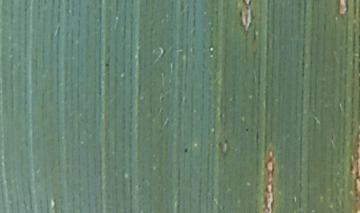tarspot: (179, 144, 191, 156), (101, 60, 113, 70), (242, 125, 252, 135)
